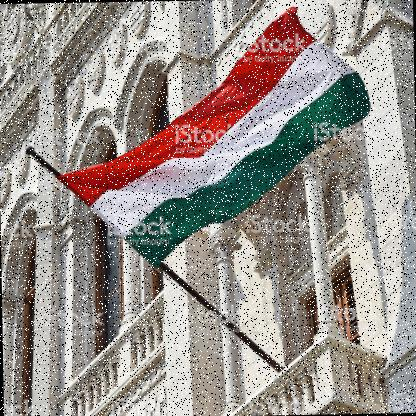hu: (62, 10, 376, 261)
